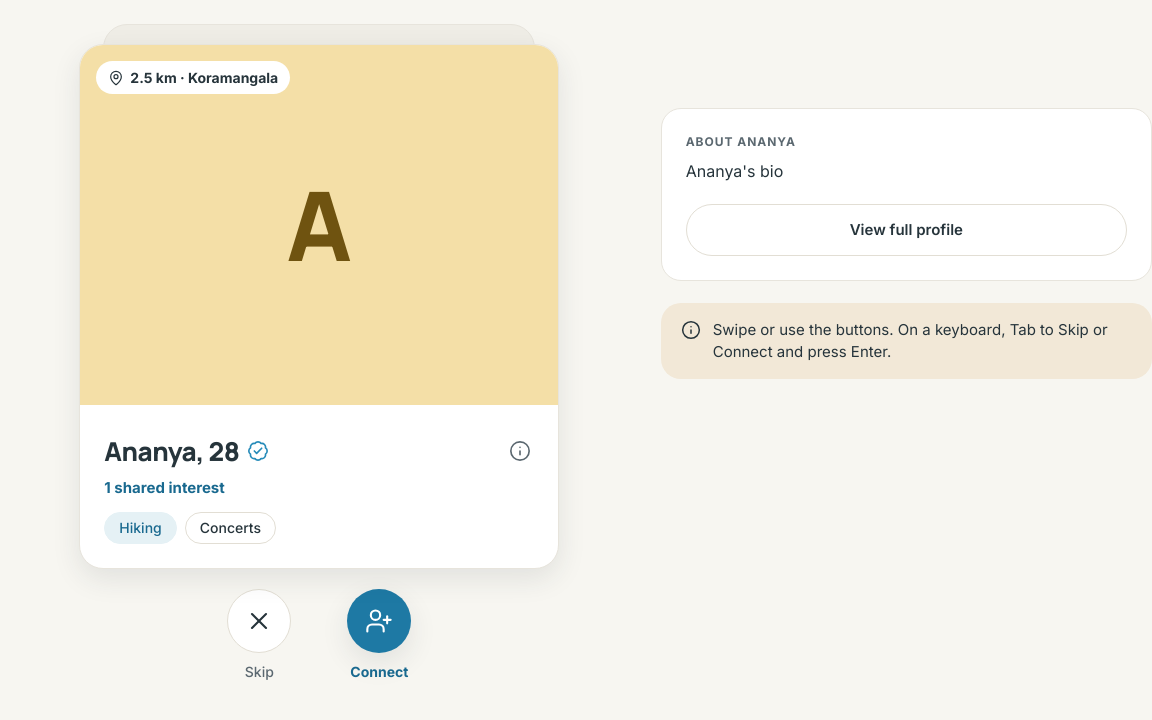
it: S08 DiscoverDeck › rolls back and shows an error toast when Connect fails
Click the button "Connect".
click(379, 635)  # box [347,588,411,682]
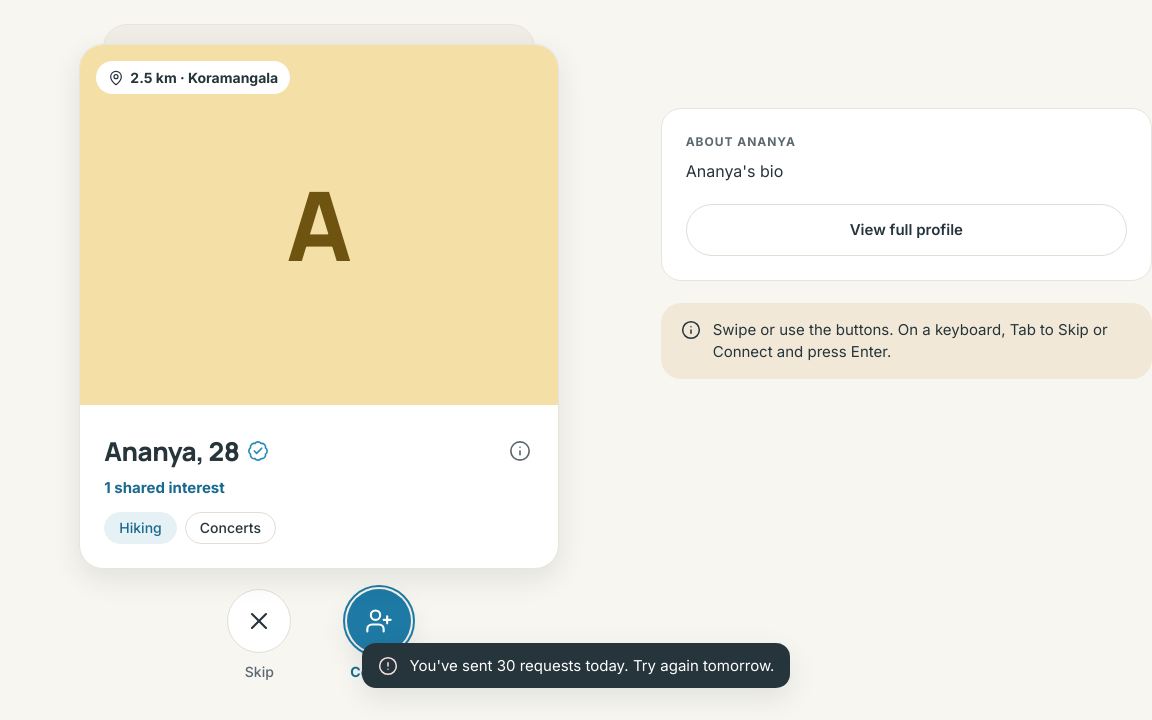
expect the text "You've sent 30 requests today. Try again tomorrow." is shown: met, box [410,655,774,676]
